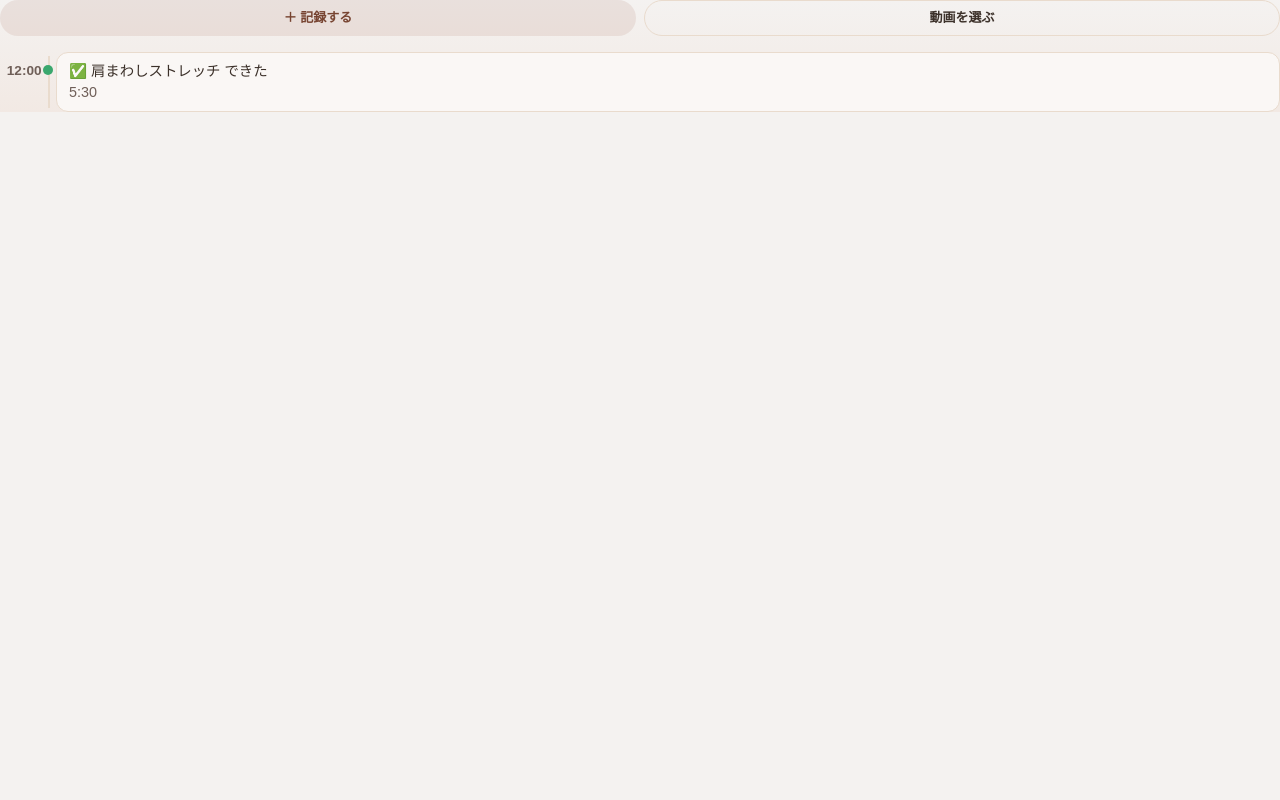
Test: TimelineSection › adds a measurement record from + Add record and edits it
Expected: the text "✅ 肩まわしストレッチ できた" is shown, [69,63,268,79]
Press Enter in the button "＋ 記録する", box [0,0,636,36]
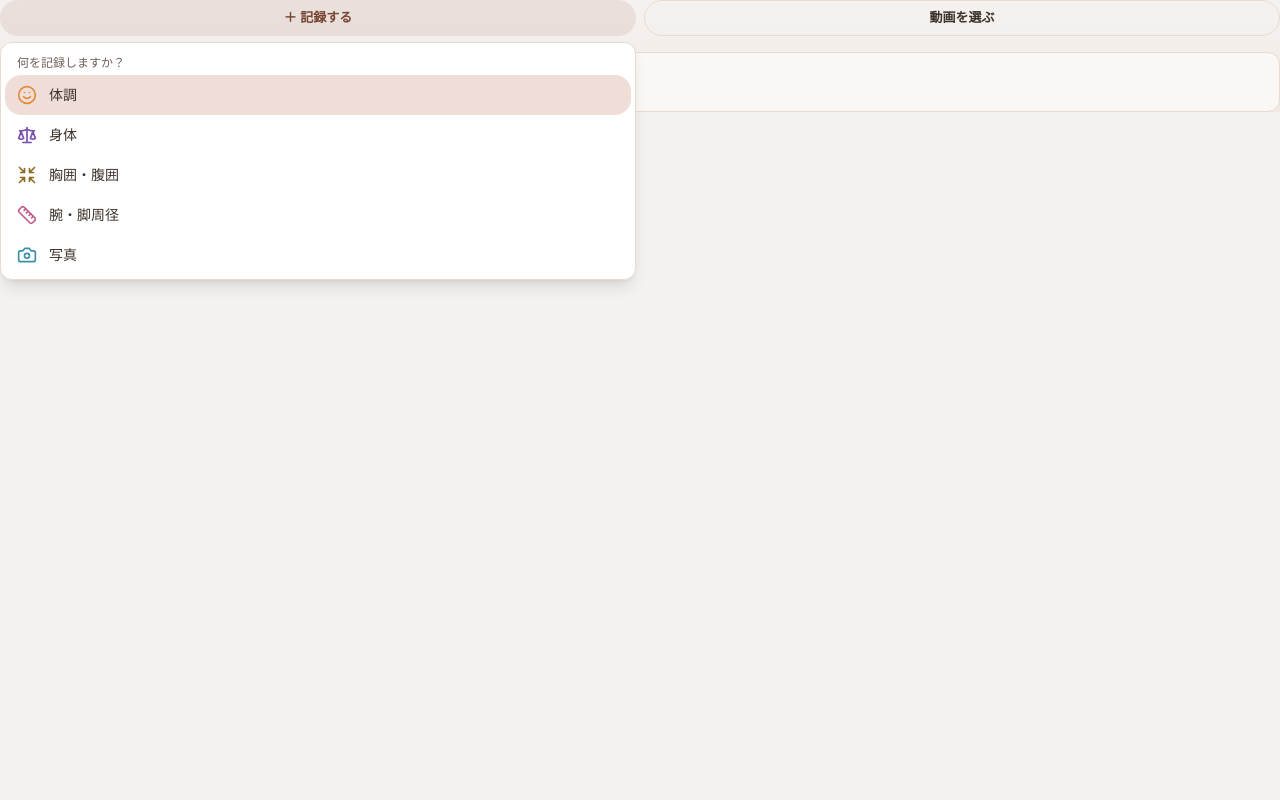
Click the menu item "身体".
click(47, 135)  # box [17,125,77,145]
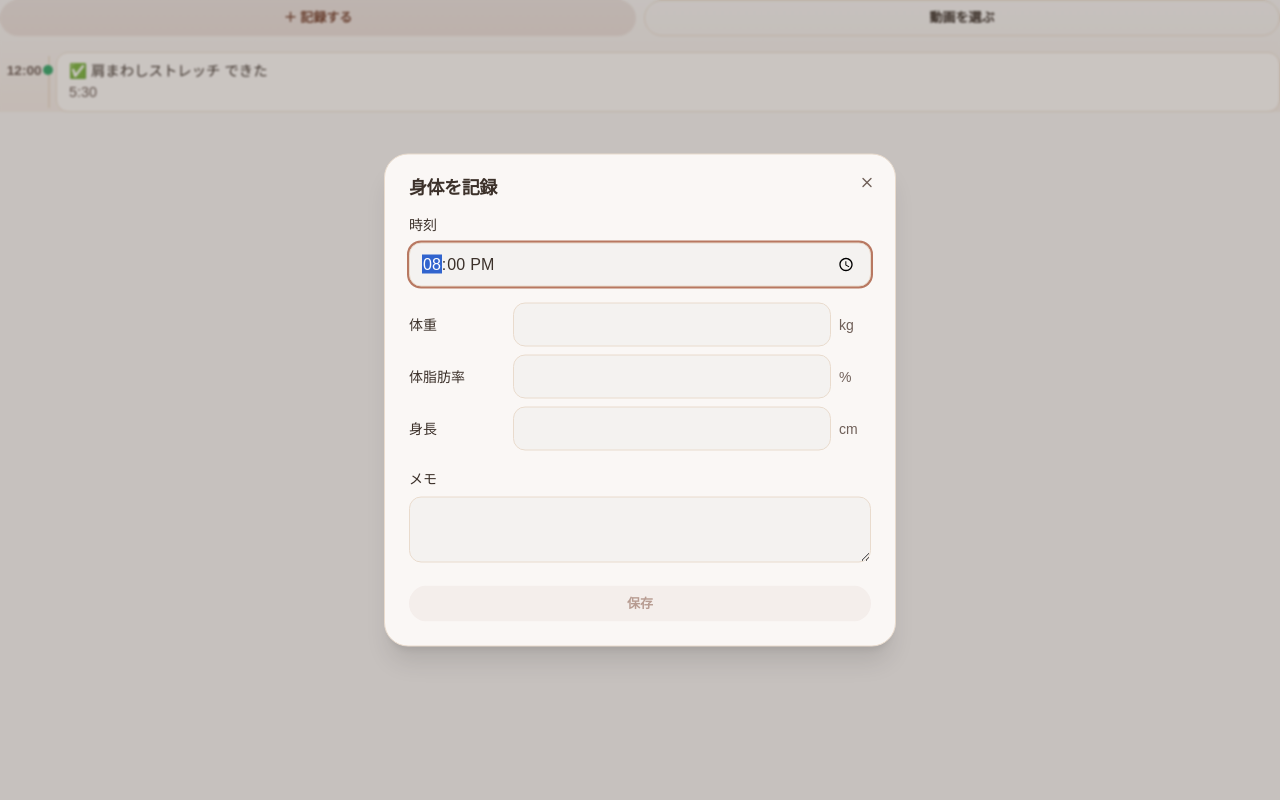
Type "60.2" into the number field labelled "体重".
click(672, 324); type("60.2")  # box [513,302,831,346]
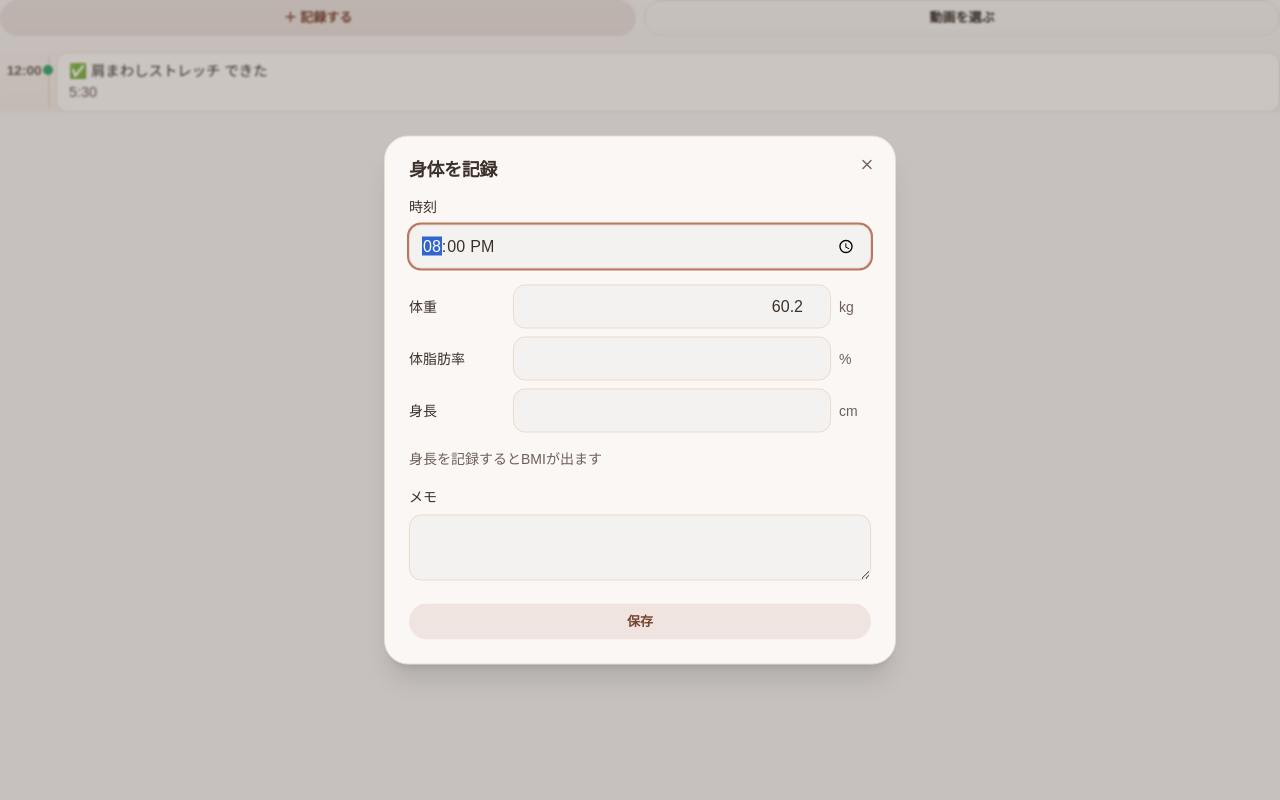
Click the button "保存".
click(640, 622)  # box [409,604,871,640]
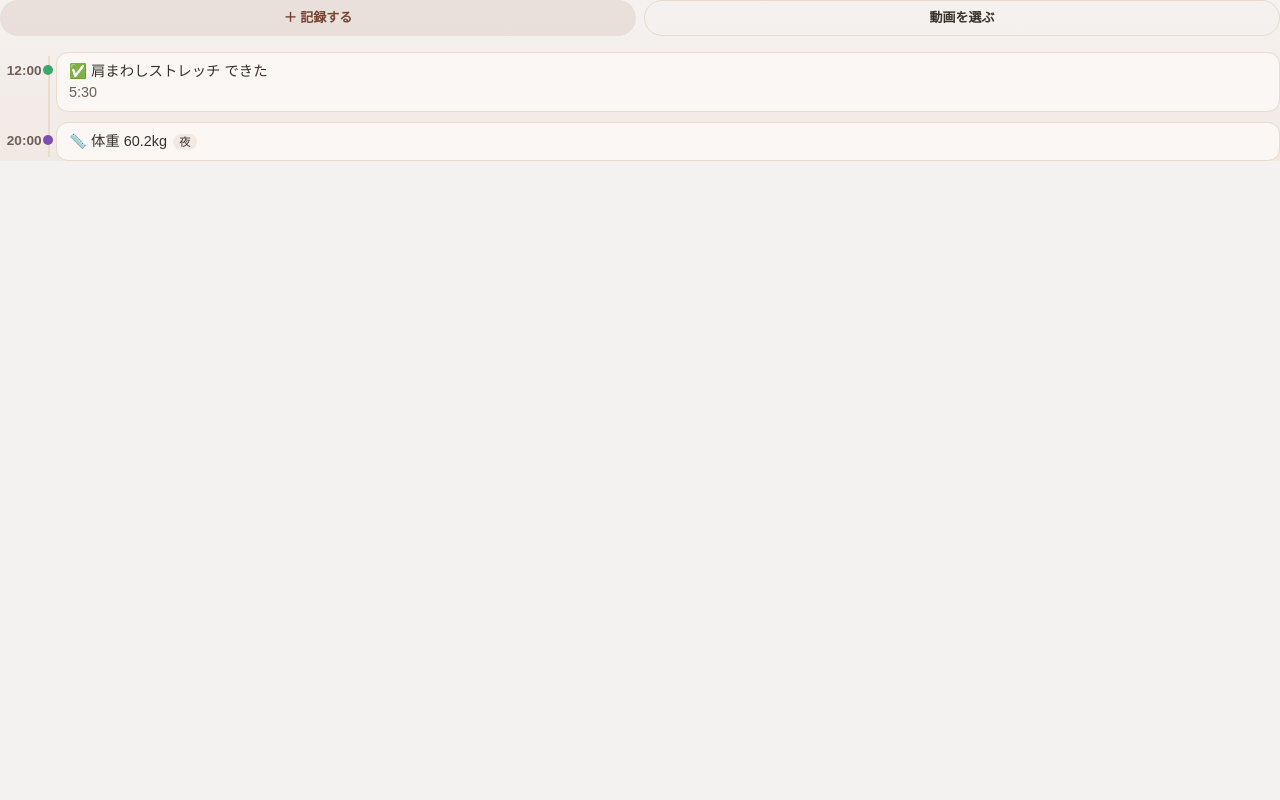
Expected: the dialog is gone
Expected: the number of list items is 2
Click the button "📏 体重 60.2kg 夜".
click(118, 141)  # box [56,122,1279,161]
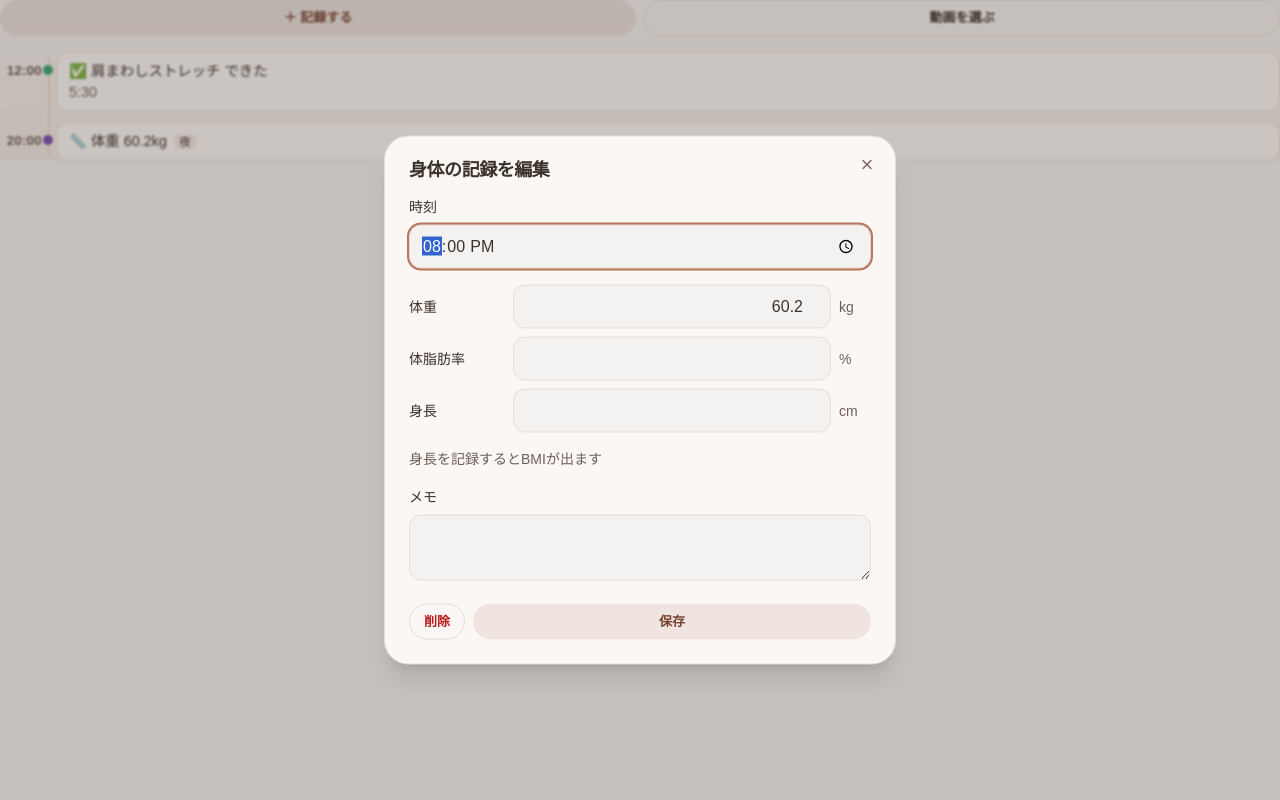
Replace the text in the number field labelled "体重" with "61" at (672, 306), box [513,284,831,328]
Click the button "保存".
click(672, 622)  # box [473,604,871,640]
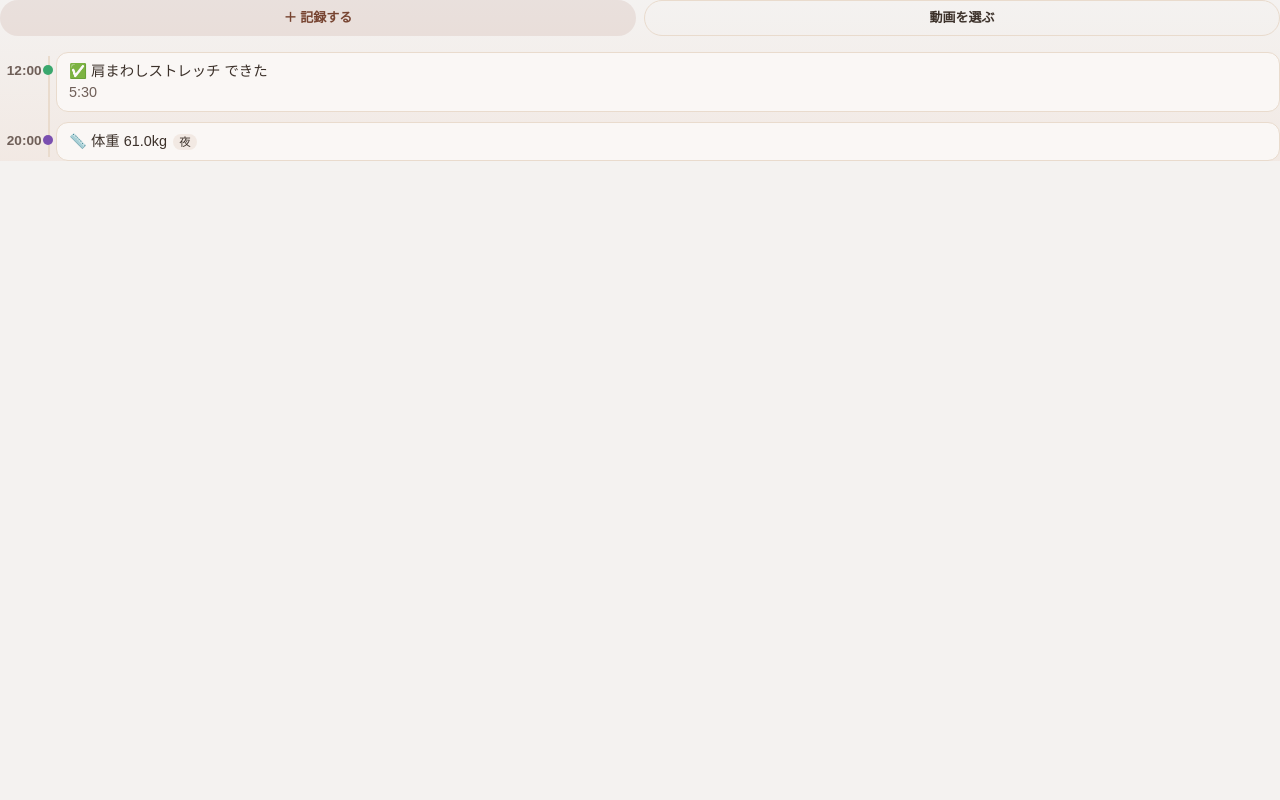
Expected: the dialog is gone
Expected: the button "📏 体重 61.0kg 夜" is shown, [56,122,1279,161]
